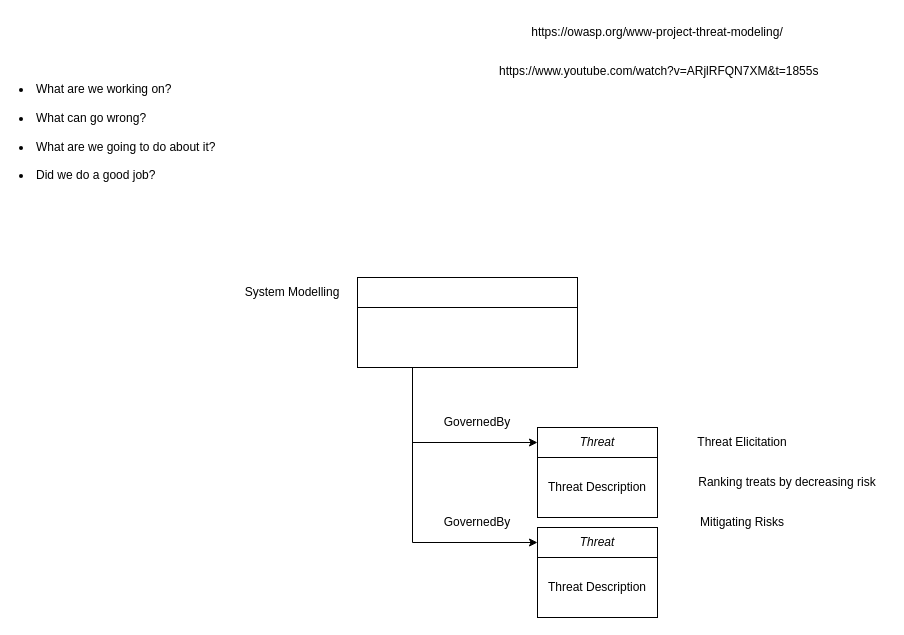
The diagram is 904 pixels wide and 635 high, and some of its shapes have lost their labels. The shapes that lost their labels are listed below. From the top down, each one's box as (x1, y1, x2, y2) in pixels, then its label:
(356, 276, 578, 308): SolutionComponent
(356, 306, 578, 368): System or component being studied
